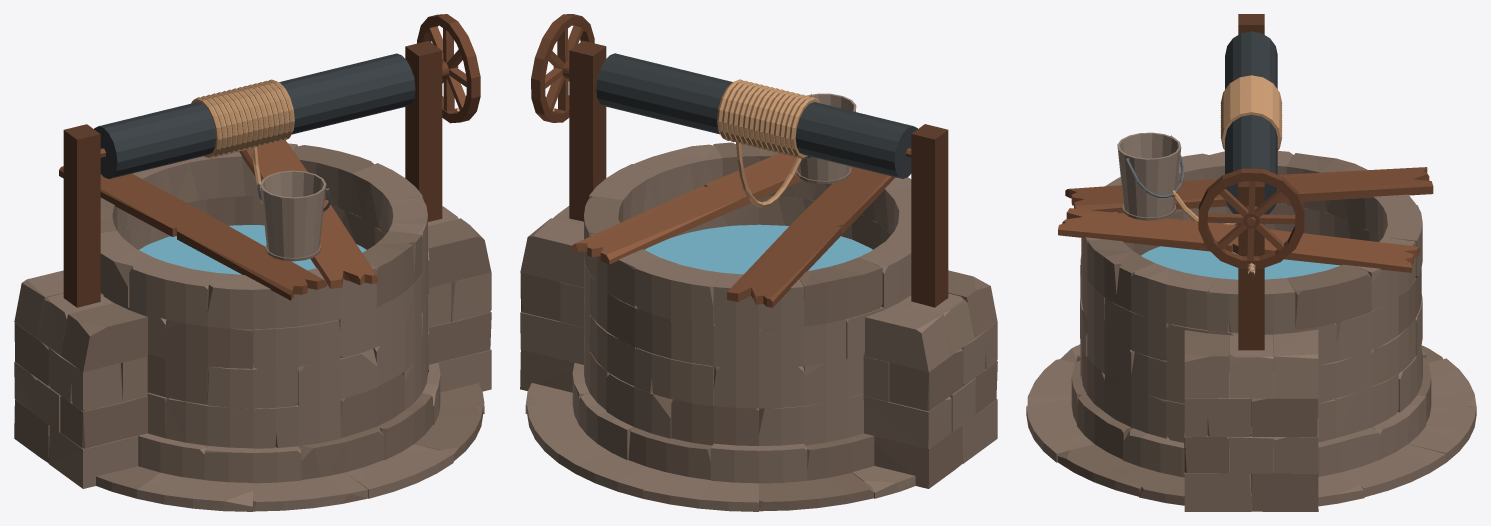
File: Well_01.fbx
3 views of the same model, side by side, from view 1: azimuth 30°, elevation 25°; view 2: azimuth 150°, elevation 25°; view 3: azimuth 270°, elevation 25° (orthographic). The views are drawn at different scales.
Visible parts, largest first — view 1: Well_01; view 2: Well_01; view 3: Well_01.
Boxes of the visible parts, x1,y1,x2,y2 form: Well_01: (14, 14, 491, 511); Well_01: (520, 14, 997, 511); Well_01: (1026, 14, 1476, 511).
Size of the model in its own units: 226 by 175 by 212.
